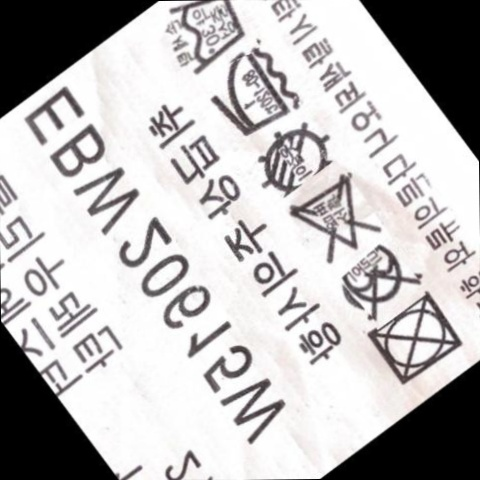DN_dry_clean: (338, 243, 412, 308)
DN_tumble_dry: (371, 294, 460, 384)
hand_wash: (164, 1, 242, 73)
iron_low: (216, 47, 285, 138)
line_dry_in_shade: (257, 121, 338, 192)
non_chlorine_bleach: (296, 181, 370, 259)
